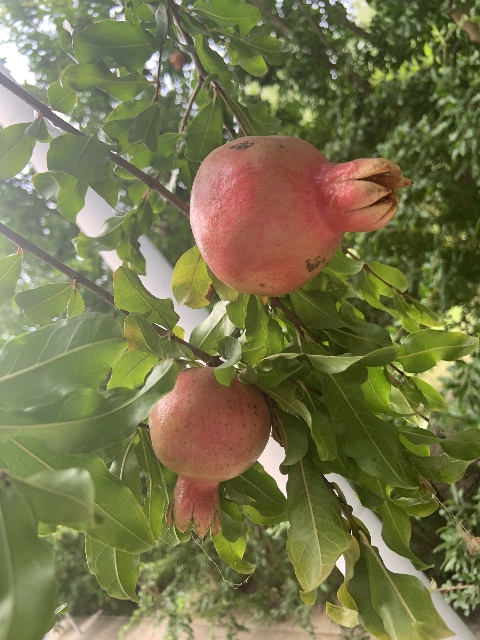ripe: (190, 134, 413, 296), (148, 366, 270, 538)
